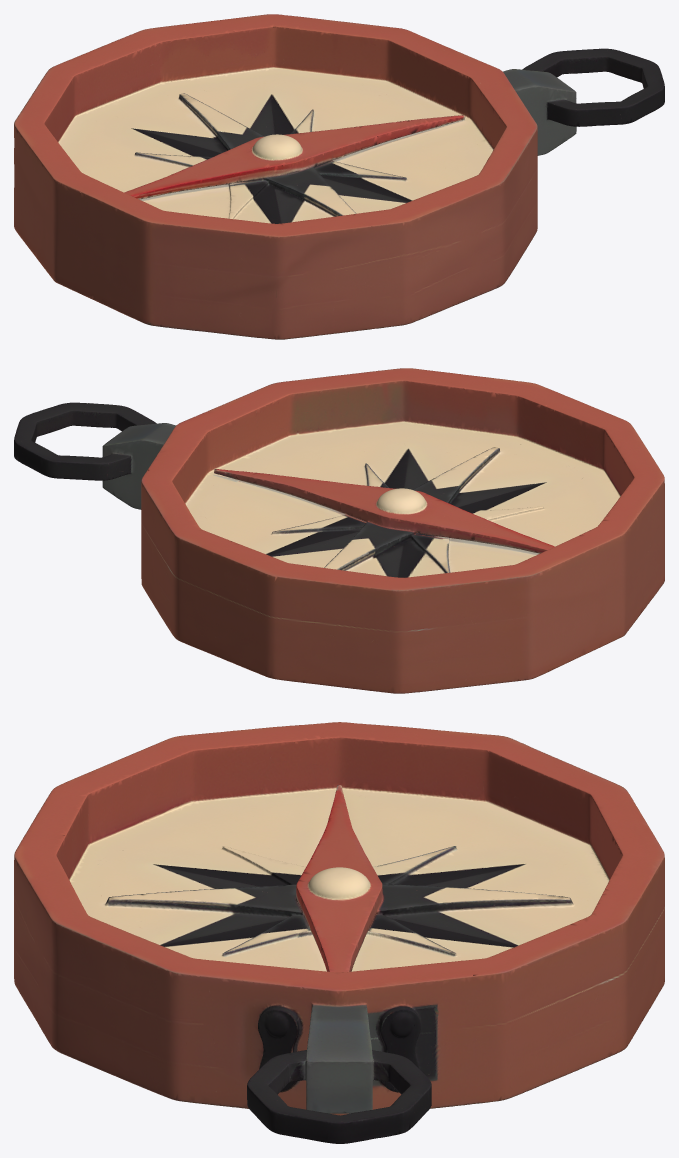
The model's file is accessories_set_2_item_16.glb.
3 renders of one model, top to bottom at view 1: azimuth 30°, elevation 25°; view 2: azimuth 150°, elevation 25°; view 3: azimuth 270°, elevation 25°, orthographic. The views are drawn at different scales.
Bounding box in the file's own units: 1.9 × 0.315 × 1.44.
Materials: 1 (1 with a texture image).
